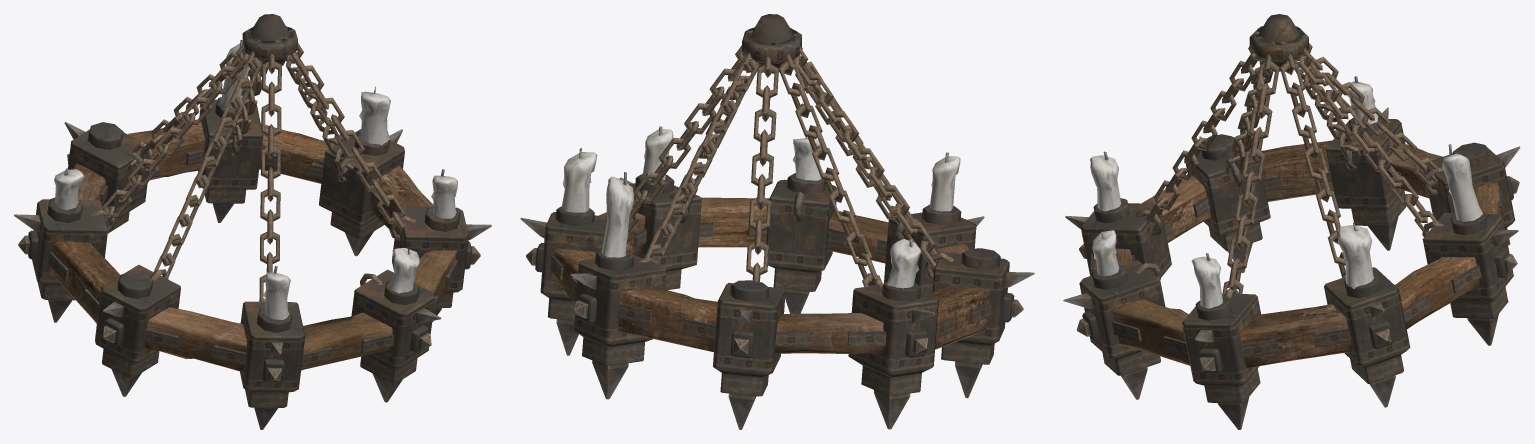
3 views of the same model, side by side, from view 1: azimuth 30°, elevation 25°; view 2: azimuth 150°, elevation 25°; view 3: azimuth 270°, elevation 25° (orthographic). The views are drawn at different scales.
Visible parts, largest first — view 1: SM_DR_Chandelier_02_LOD0; view 2: SM_DR_Chandelier_02_LOD0; view 3: SM_DR_Chandelier_02_LOD0.
Boxes of the visible parts, x1,y1,x2,y2 form: SM_DR_Chandelier_02_LOD0: (14,14,491,429); SM_DR_Chandelier_02_LOD0: (520,14,1034,429); SM_DR_Chandelier_02_LOD0: (1063,14,1520,429).
Bounding box in the file's own units: 1.5 × 1.27 × 1.48.
Materials: 4 (4 with a texture image).
